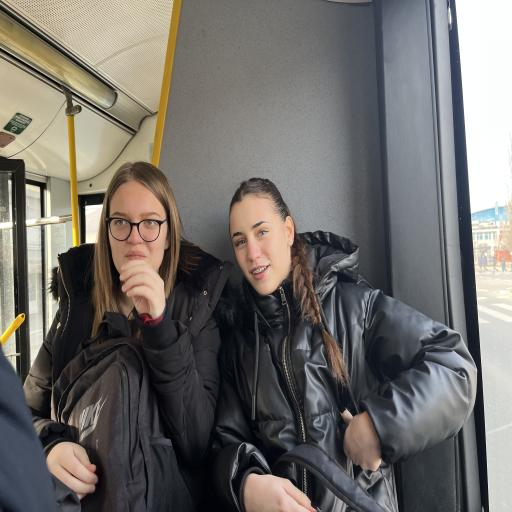masa: (228, 196, 300, 297)
